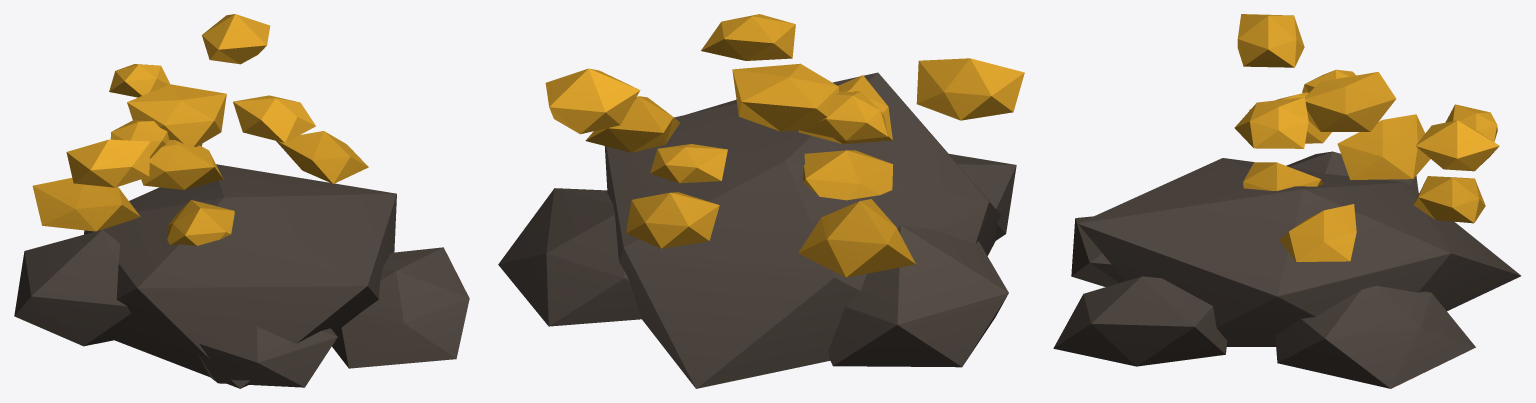
Rendered from gold2.glb.
3 renders of one model, left to right at view 1: azimuth 30°, elevation 25°; view 2: azimuth 150°, elevation 25°; view 3: azimuth 270°, elevation 25°, orthographic. The views are drawn at different scales.
Parts seen in each view (by area): view 1: gold2; view 2: gold2; view 3: gold2.
Boxes of the visible parts, x1,y1,x2,y2 form: gold2: (14,14,469,388); gold2: (498,14,1024,388); gold2: (1053,14,1520,388).
Bounding box in the file's own units: 0.6746 × 0.3553 × 0.7.
